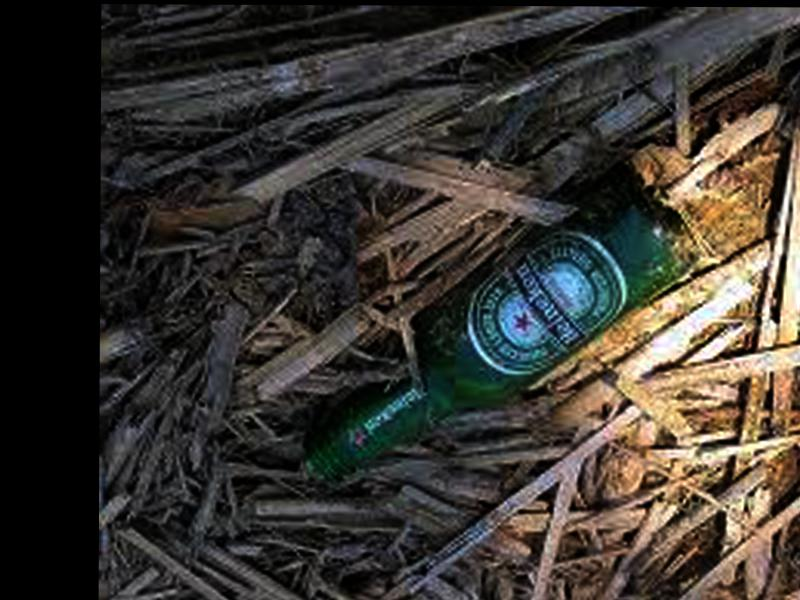Beer: (299, 165, 696, 479)
